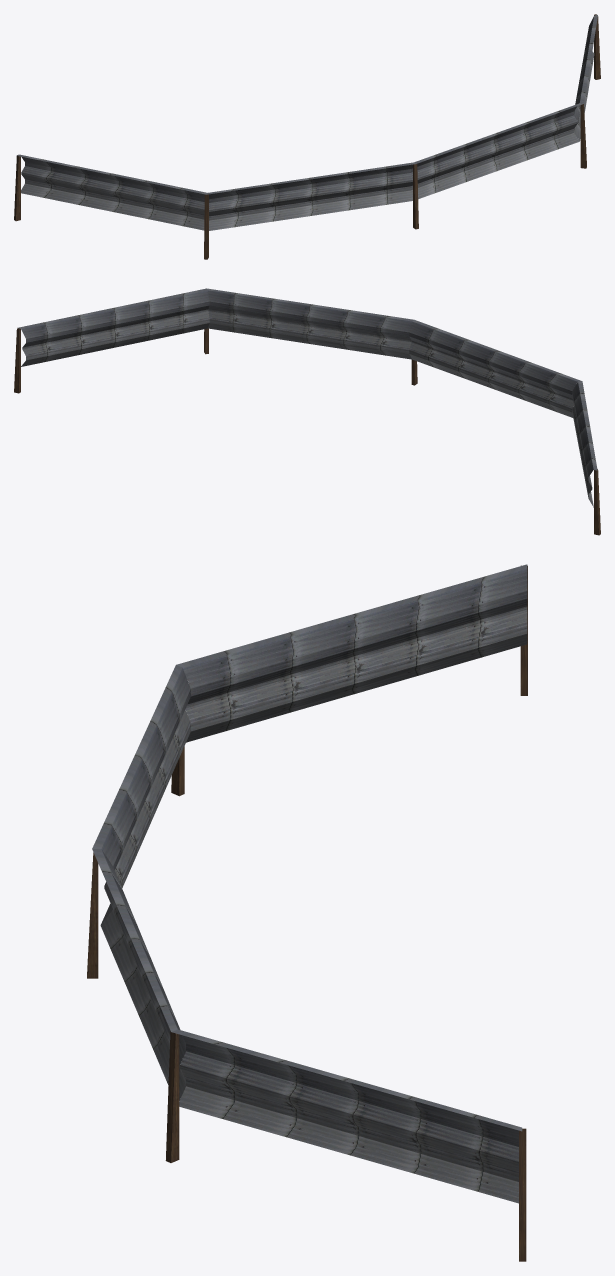
Rendered from vegascrashbar04.obj.
3 renders of one model, top to bottom at view 1: azimuth 30°, elevation 25°; view 2: azimuth 150°, elevation 25°; view 3: azimuth 270°, elevation 25°, orthographic. The views are drawn at different scales.
Visible parts, largest first — view 1: vegascrashbar04; view 2: vegascrashbar04; view 3: vegascrashbar04.
Part boxes in pixels (x1=…): vegascrashbar04: x1=14, y1=14, x2=600, y2=259; vegascrashbar04: x1=14, y1=288, x2=600, y2=535; vegascrashbar04: x1=87, y1=564, x2=527, y2=1261.
Bounding box in the file's own units: 10.83 × 1.13 × 3.54.
2 materials, 2 textured.
